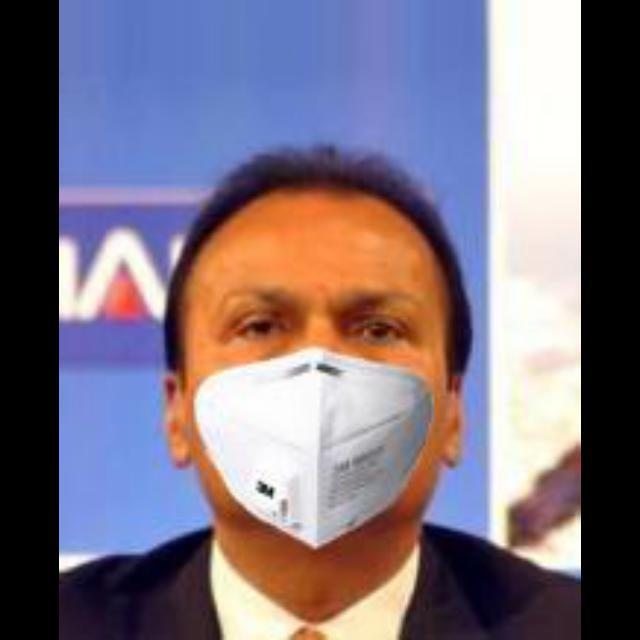suspicion: (170, 149, 468, 551)
